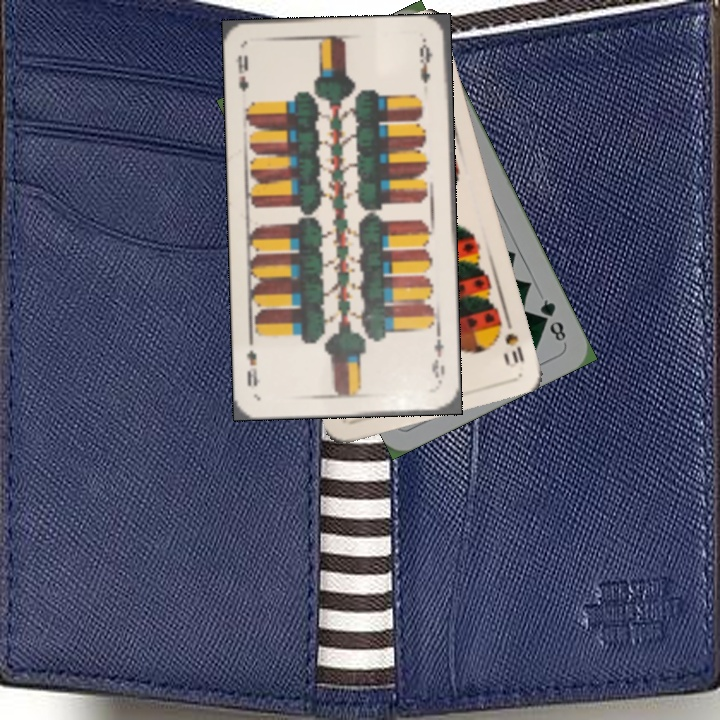E9: (428, 329, 447, 387), (231, 50, 252, 95)
G8: (535, 295, 569, 344)
S10: (500, 311, 527, 368)
